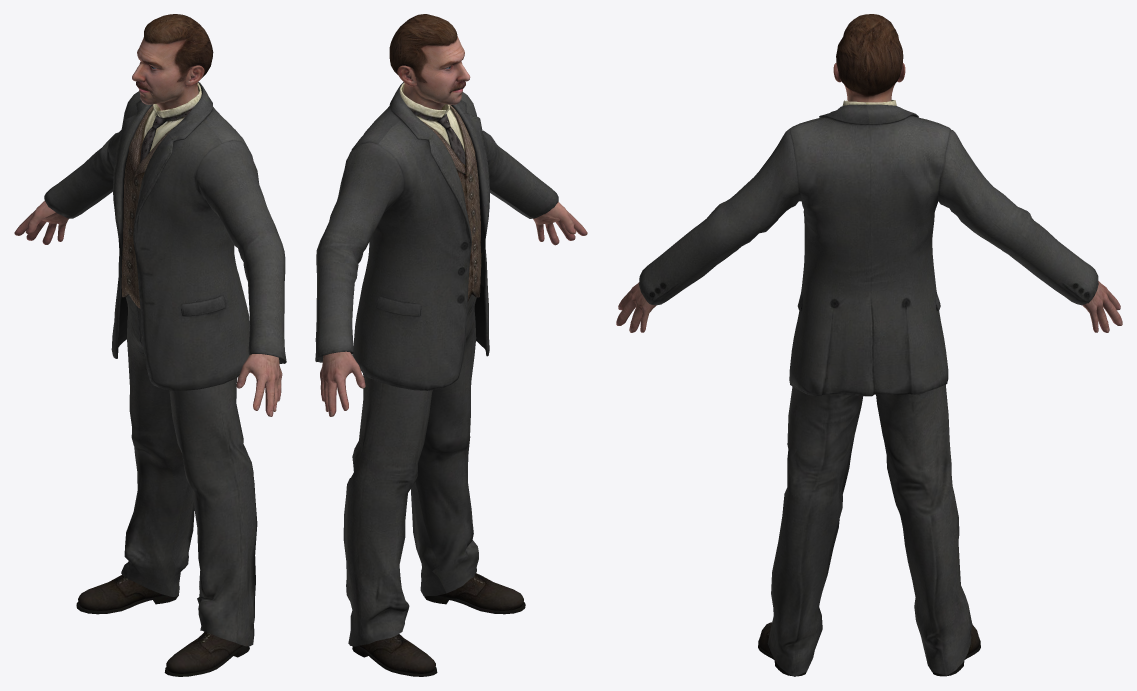
3 renders of one model, left to right at view 1: azimuth 30°, elevation 25°; view 2: azimuth 150°, elevation 25°; view 3: azimuth 270°, elevation 25°, orthographic. The views are drawn at different scales.
Parts seen in each view (by area): view 1: Object_Doctor_body_d_jpg; view 2: Object_Doctor_body_d_jpg; view 3: Object_Doctor_body_d_jpg.
Part boxes in pixels (x1,y1,x2,y2): Object_Doctor_body_d_jpg: (14,14,286,676); Object_Doctor_body_d_jpg: (315,14,587,676); Object_Doctor_body_d_jpg: (616,14,1122,676).
Bounding box in the file's own units: 0.4674 × 2.5 × 1.8.
Materials: 3 (3 with a texture image).
